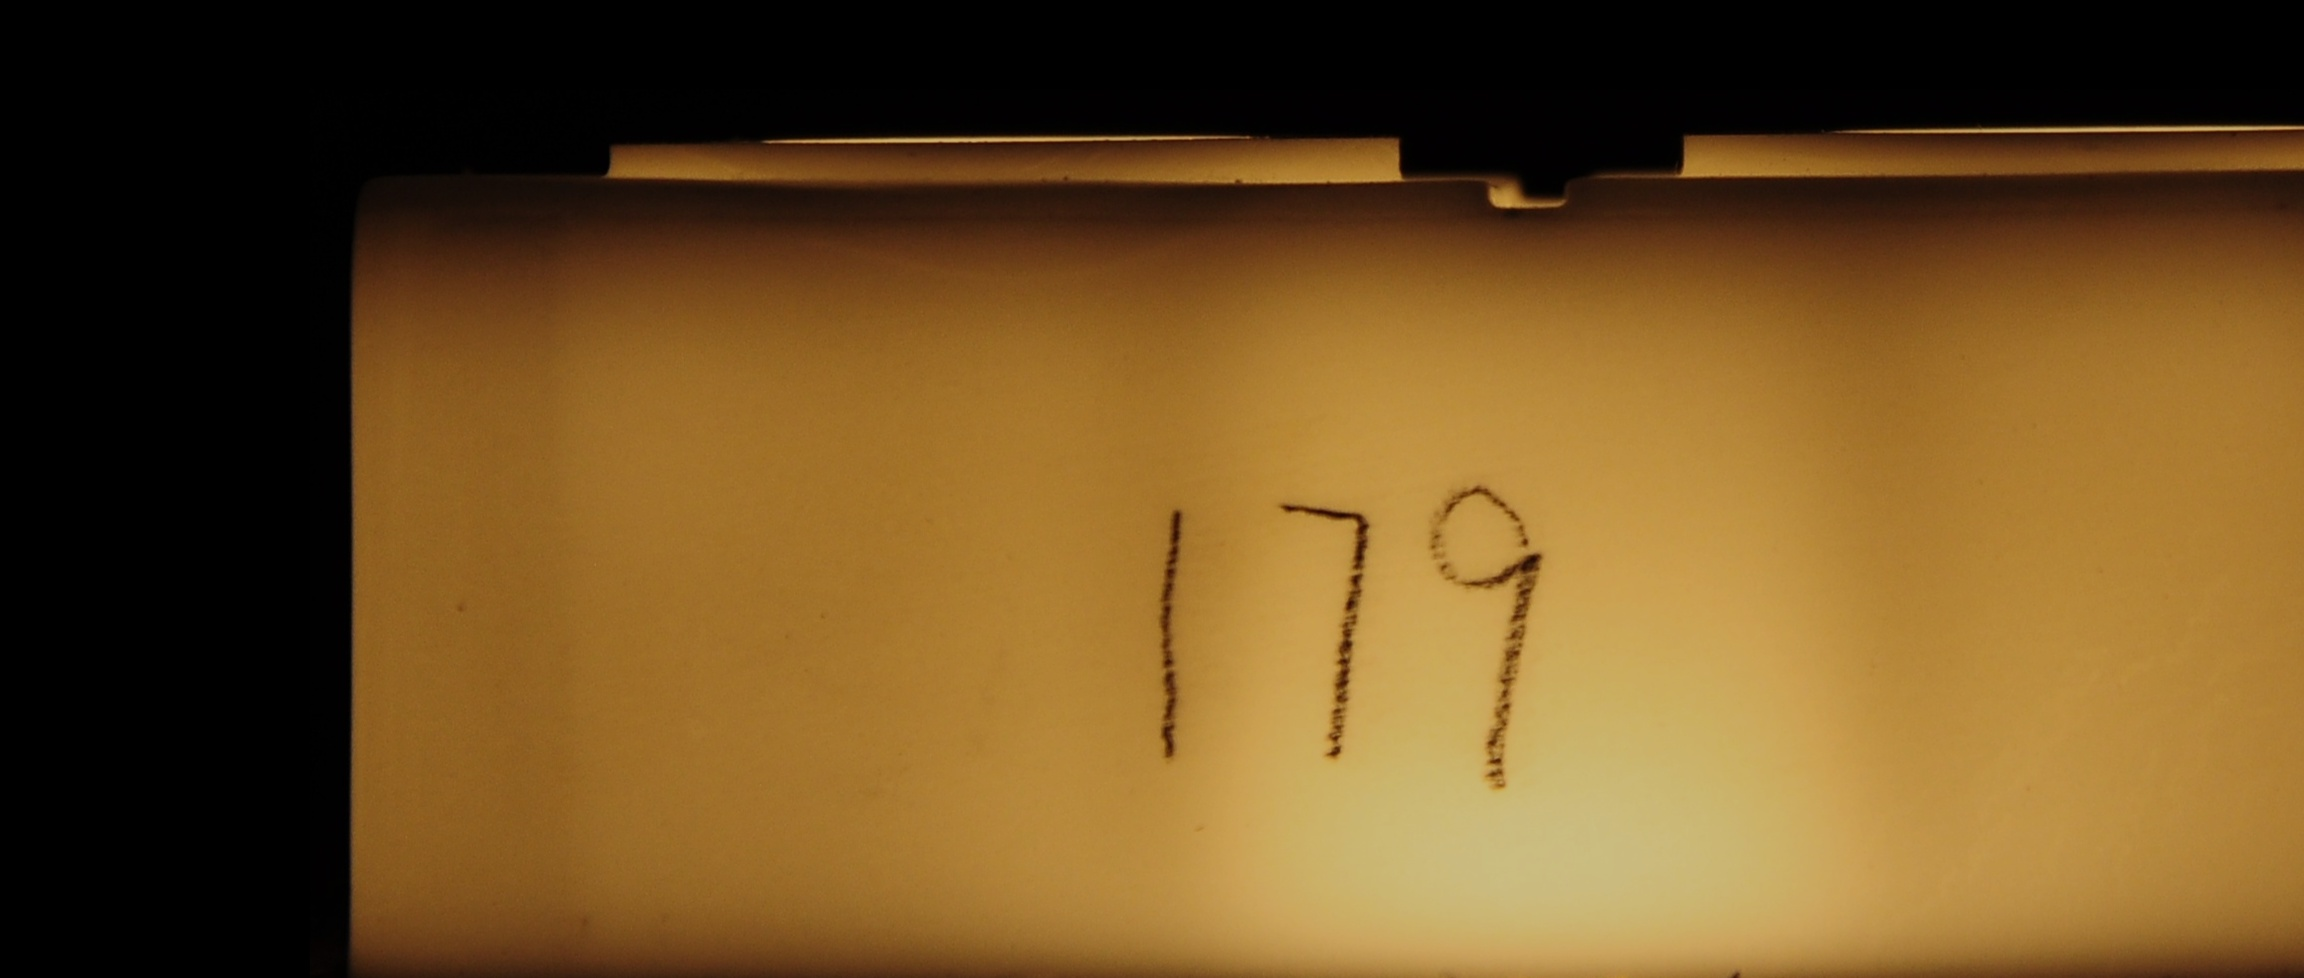flaw: (767, 213, 1325, 319)
